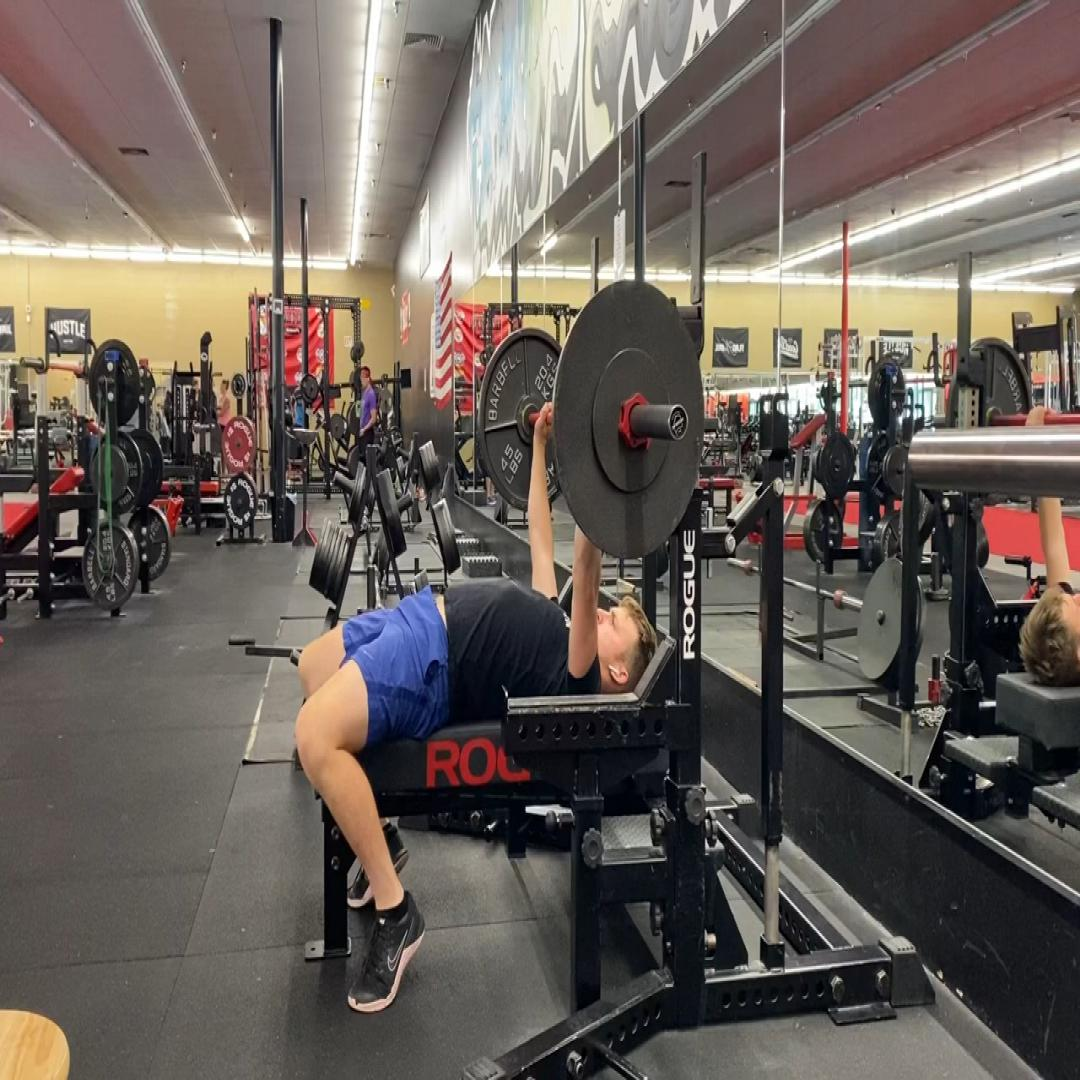Bar: (668, 403, 689, 441)
Barbell: (552, 279, 705, 559)
